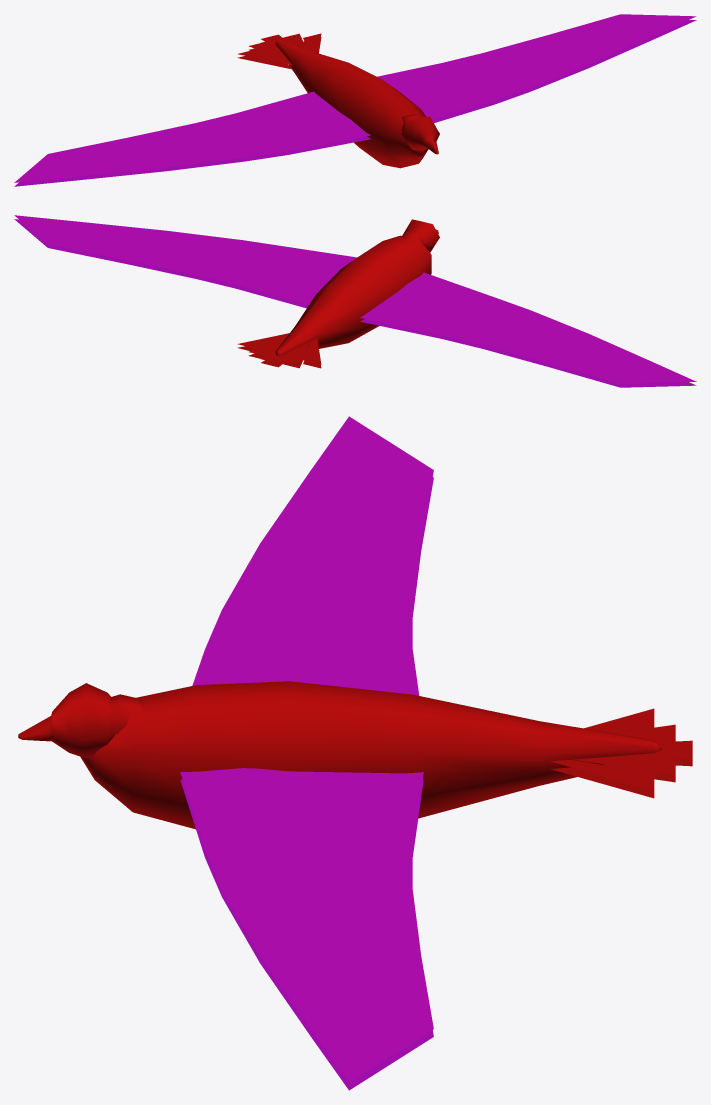
The model's file is gull.glb.
The picture shows the model from 3 angles, top to bottom: view 1: azimuth 30°, elevation 25°; view 2: azimuth 150°, elevation 25°; view 3: azimuth 270°, elevation 25°; orthographic projection. The views are drawn at different scales.
Visible parts, largest first — view 1: bird; view 2: bird; view 3: bird.
Boxes of the visible parts, left/top/right/bottom form: bird: left=14, top=14, right=696, bottom=186; bird: left=14, top=215, right=696, bottom=387; bird: left=18, top=416, right=692, bottom=1090.
Size of the model in its own units: 1.45 by 0.1289 by 0.6211.
